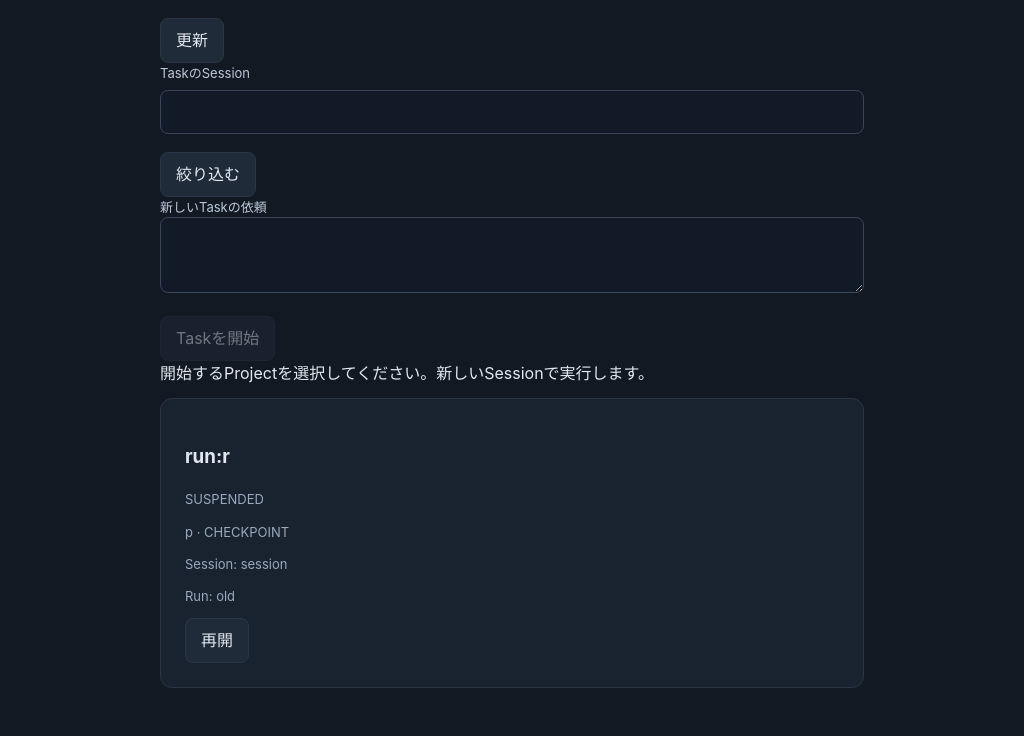
resumes only on explicit input and does not retry a rejected operation
(page scrolled)
Expected: the text "SUSPENDED" is shown, [185,492,264,508]
What coordinates should you click on to do the following:
click the button "再開"
I would click on:
 (217, 640)
Its box is [185,618,249,663].
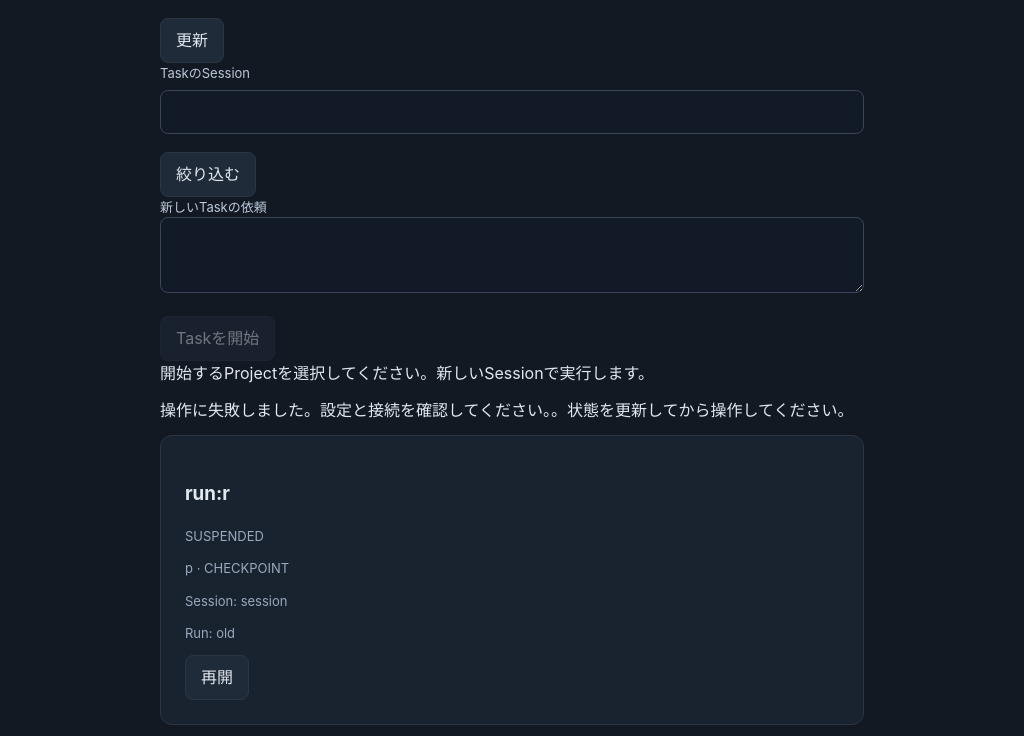
Expected: the text "SUSPENDED" is shown, [185,528,264,544]
Result: the message "操作に失敗しました。設定と接続を確認してください。。状態を更新してから操作してください。" is shown at [160,398,864,423]
